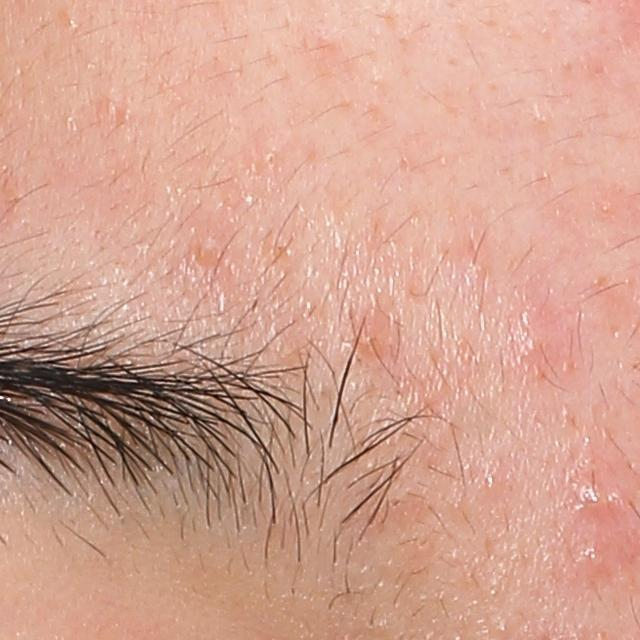comedo: (188, 231, 225, 264), (63, 11, 79, 31)
papule: (347, 311, 401, 360), (576, 474, 628, 517)
